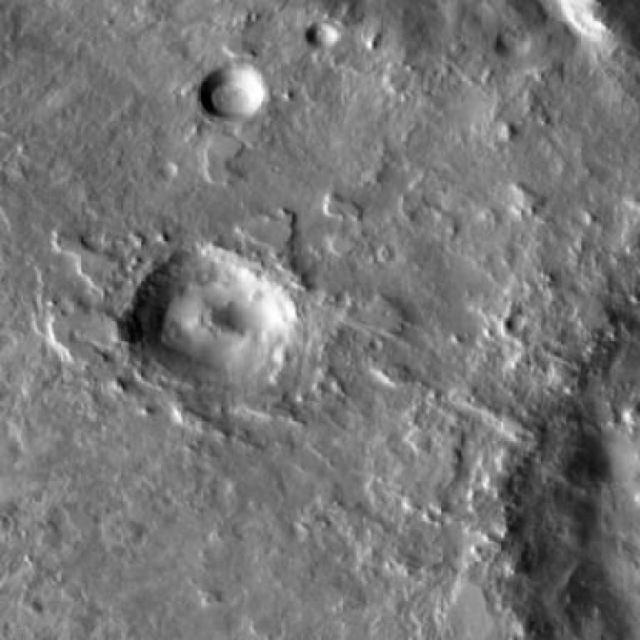crater: (142, 252, 306, 394), (208, 60, 278, 120), (504, 30, 536, 56), (304, 23, 334, 49)
